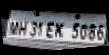character: (45, 20, 55, 39), (78, 22, 88, 39), (71, 22, 79, 39)
